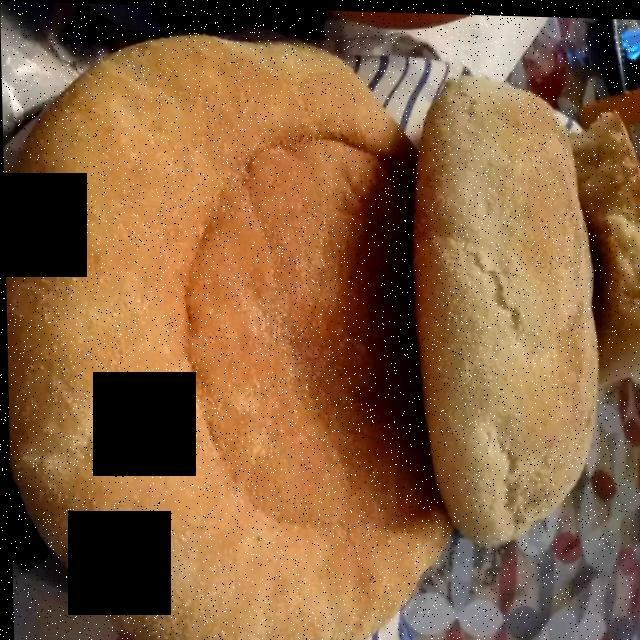bread: (16, 32, 629, 624)
